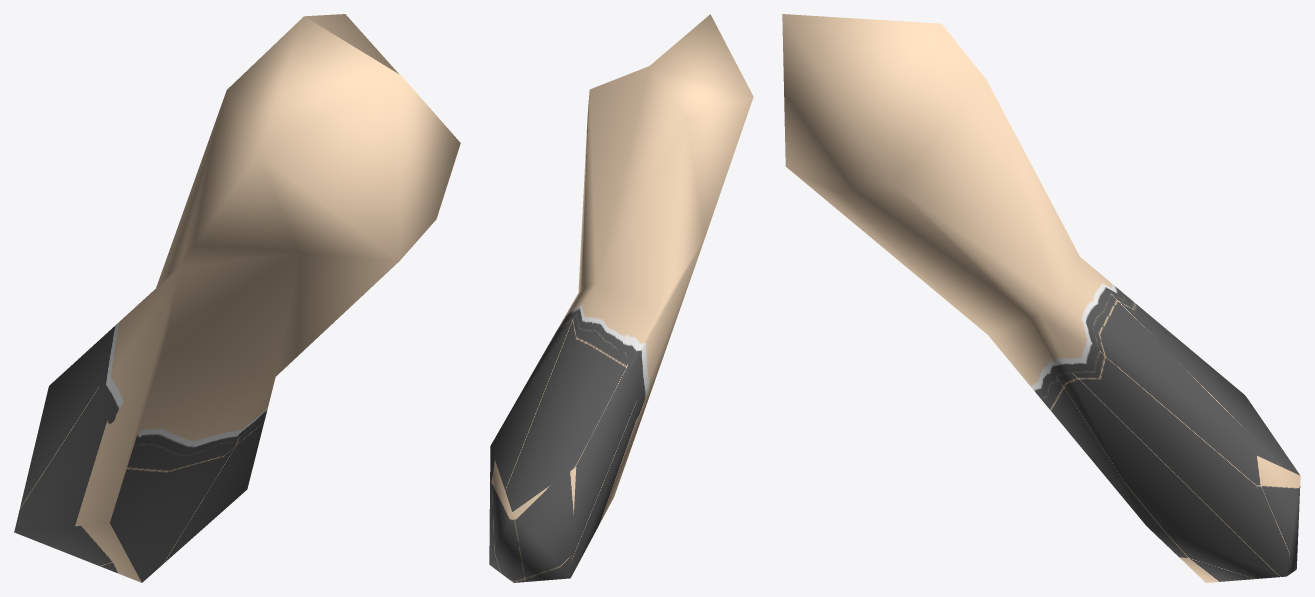
Rendered from playerLeftLeg.obj.
3 views of the same model, side by side, from view 1: azimuth 30°, elevation 25°; view 2: azimuth 150°, elevation 25°; view 3: azimuth 270°, elevation 25° (orthographic). The views are drawn at different scales.
Parts seen in each view (by area): view 1: 左足; view 2: 左足; view 3: 左足.
Part boxes in pixels (left/top/right/bottom): 左足: left=14, top=14, right=460, bottom=582; 左足: left=489, top=14, right=753, bottom=582; 左足: left=782, top=14, right=1300, bottom=582.
Size of the model in its own units: 0.7211 by 2.05 by 1.69.
